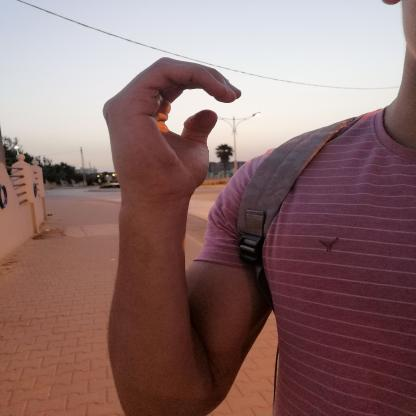JEEM: (86, 47, 250, 206)
